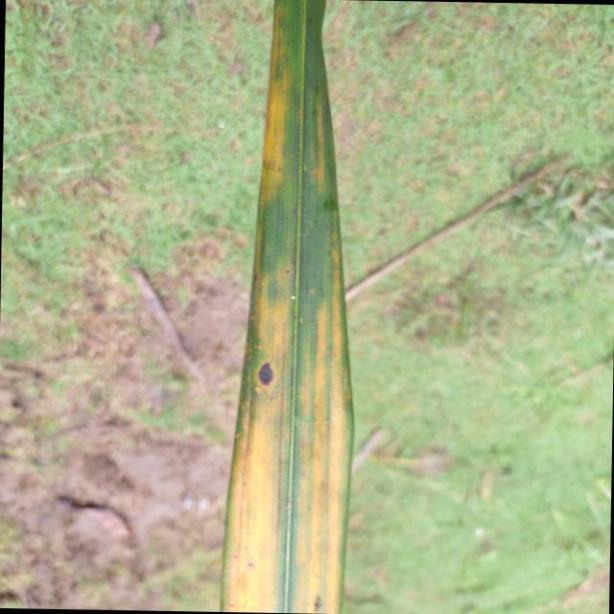Megnesium: (216, 0, 356, 614)
